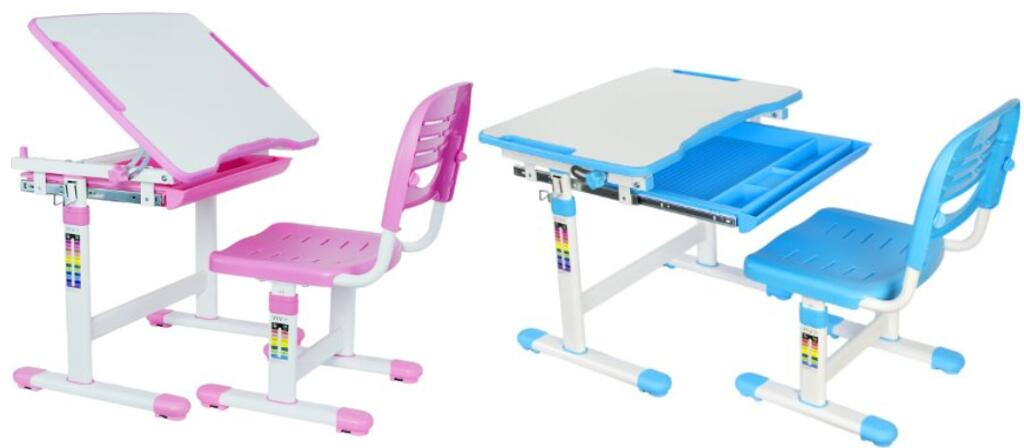chairs: (200, 81, 476, 441), (738, 89, 1017, 444)
